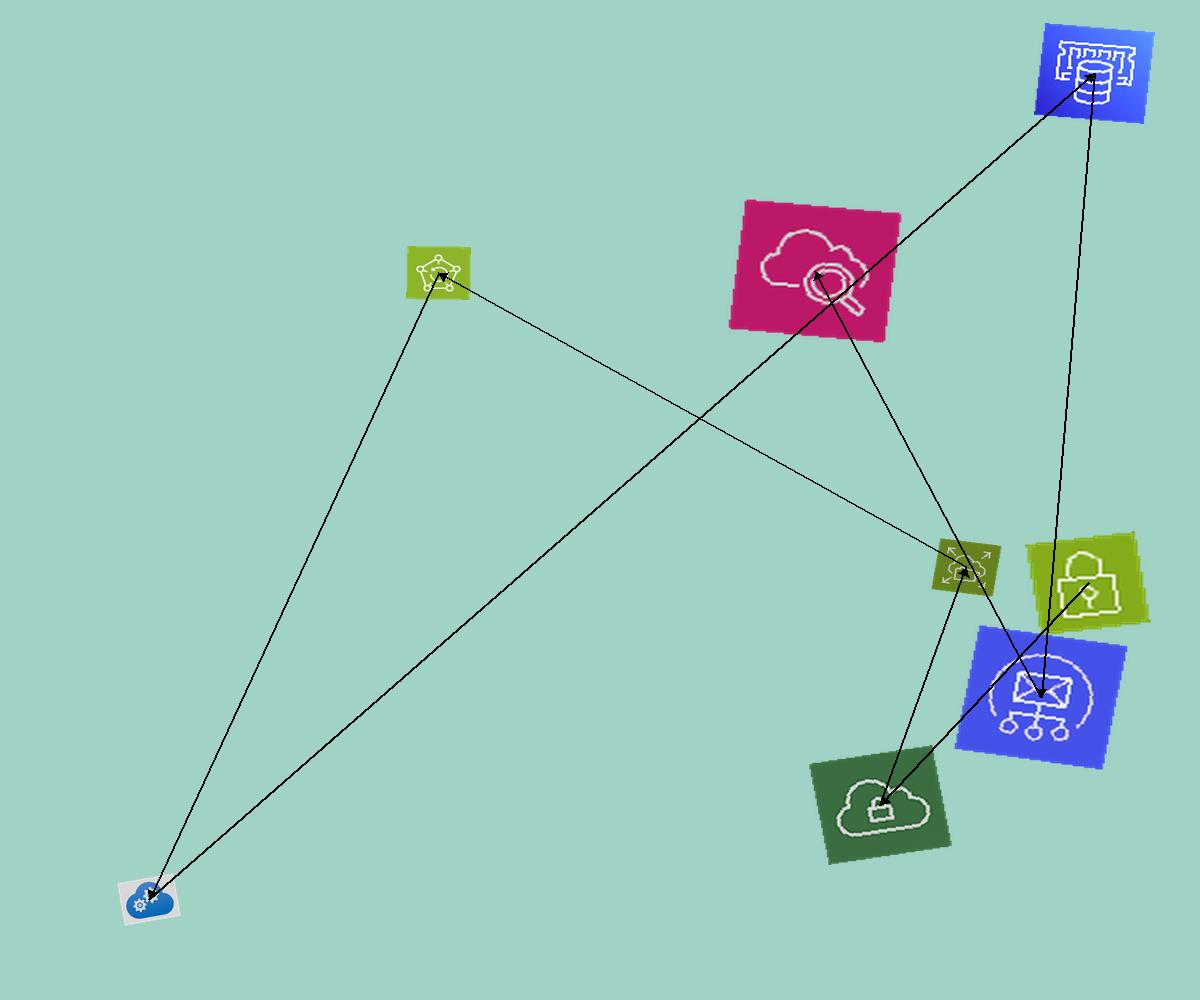AWS-Backup: (406, 246, 471, 300)
AWS-CloudWatch: (727, 198, 903, 344)
AWS-EFS: (931, 538, 1002, 597)
AWS-ElastiCache: (1034, 23, 1155, 124)
AWS-Private_vpc: (808, 745, 953, 865)
AWS-Public-subnet: (1025, 531, 1151, 636)
AWS-Simple-Email-Service: (953, 624, 1129, 771)
Azure_cloud_services: (117, 873, 181, 926)
